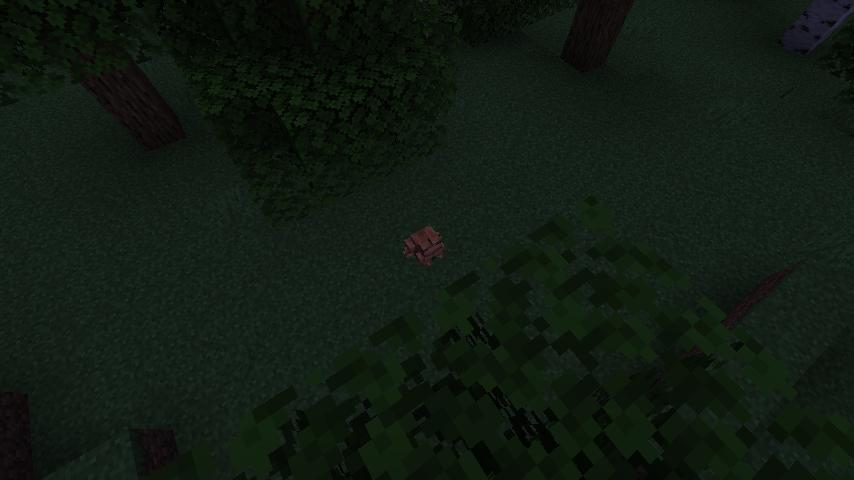frog: (399, 219, 449, 269)
